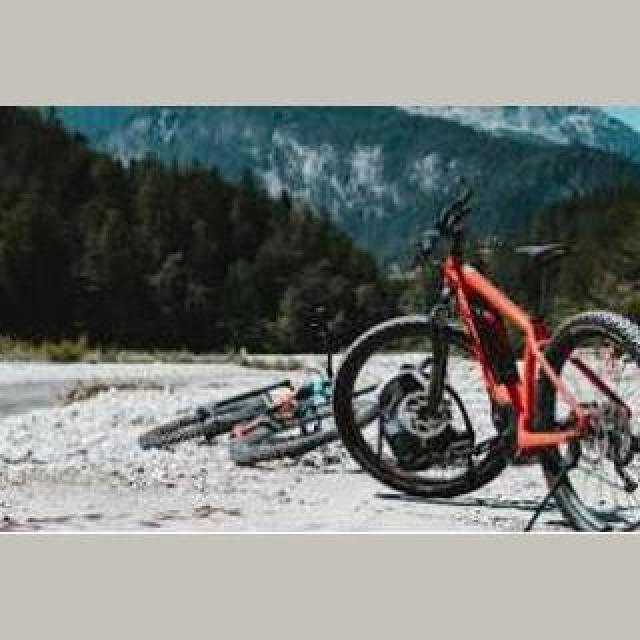Person: (332, 192, 640, 534)
